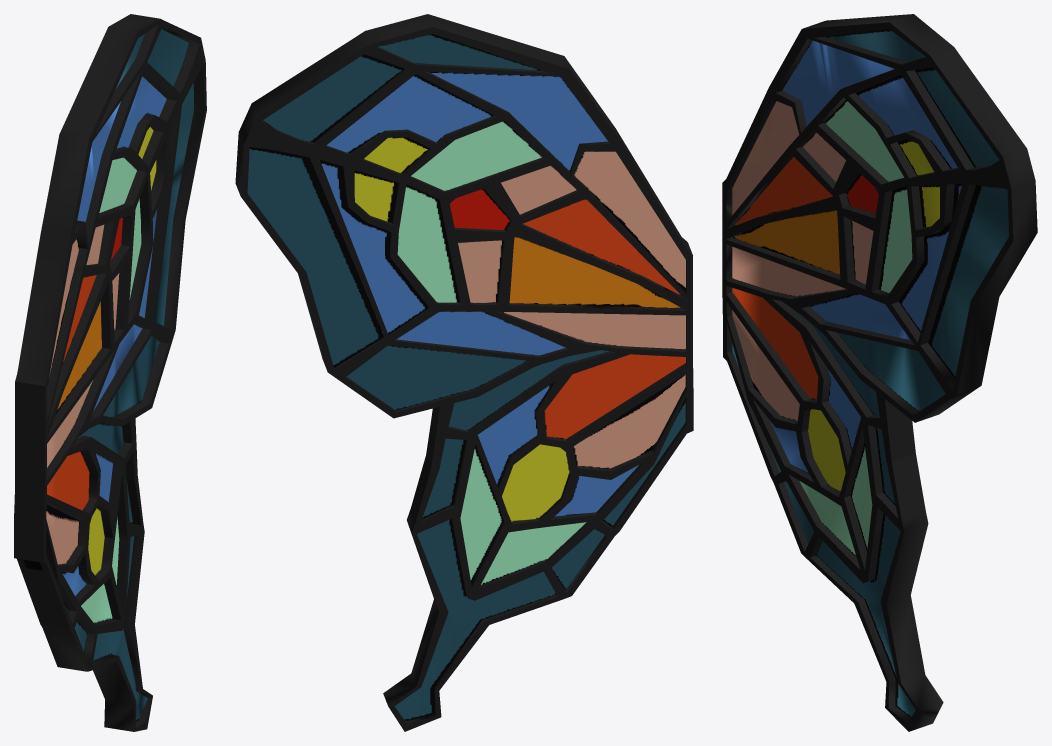
File: FlowtBombArmR.fbx
3 views of the same model, side by side, from view 1: azimuth 30°, elevation 25°; view 2: azimuth 150°, elevation 25°; view 3: azimuth 270°, elevation 25° (orthographic).
Visible parts, largest first — view 1: polySurface585; view 2: polySurface585; view 3: polySurface585.
Part boxes in pixels (left/top/right/bottom): polySurface585: left=14, top=14, right=206, bottom=731; polySurface585: left=235, top=14, right=693, bottom=731; polySurface585: left=722, top=14, right=1037, bottom=731.
Bounding box in the file's own units: 0.6967 × 1.44 × 0.5881.
Materials: 2 (2 with a texture image).
